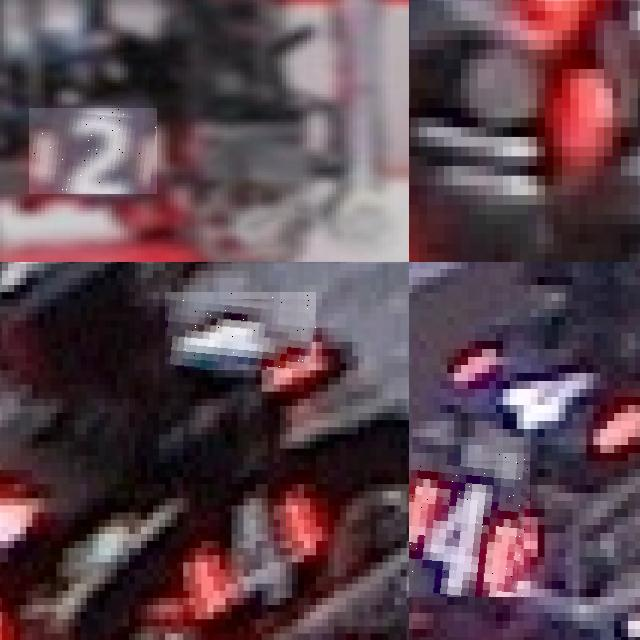R2: (29, 108, 157, 194)
R4: (171, 470, 322, 633), (409, 453, 530, 597), (165, 292, 316, 370)
